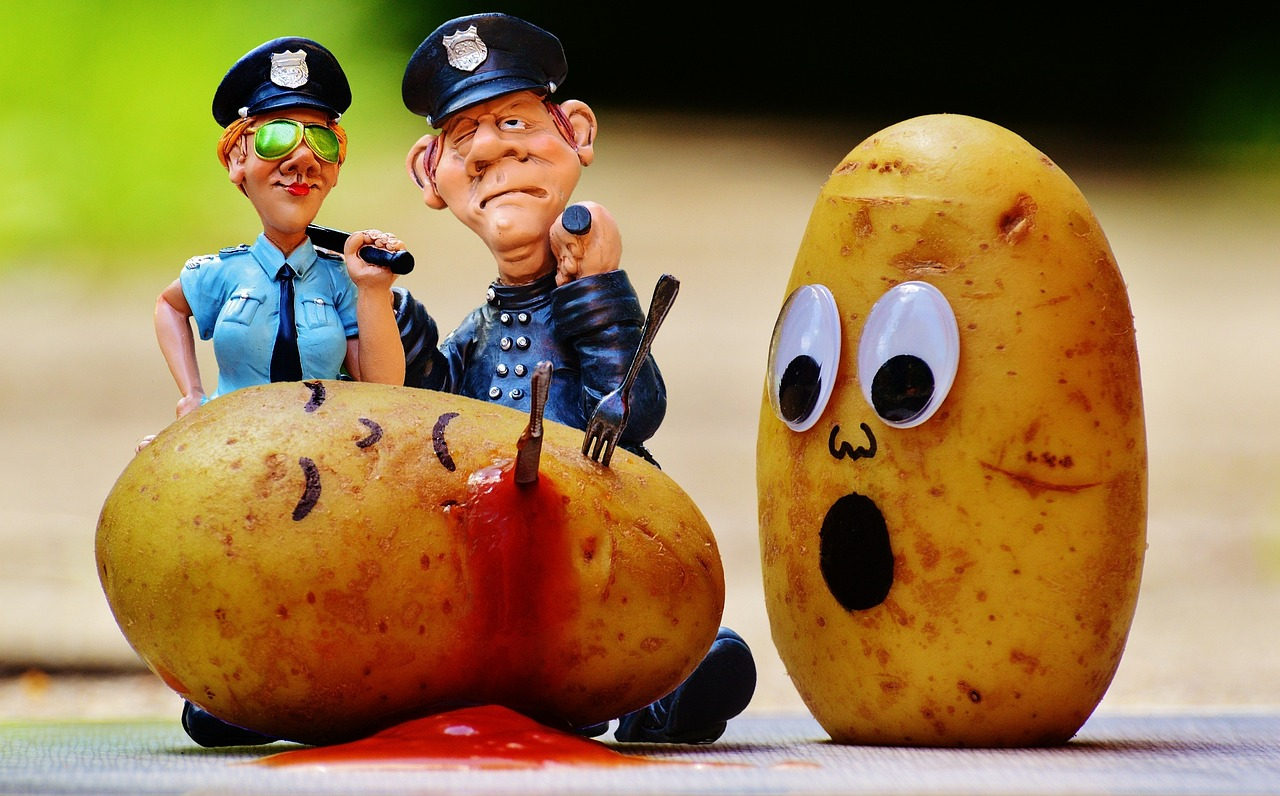knife: (505, 358, 568, 510)
